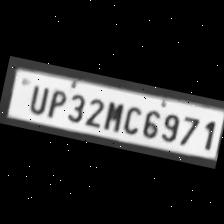1: (194, 116, 220, 153)
2: (82, 92, 106, 128)
3: (62, 88, 87, 124)
6: (137, 105, 161, 139)
7: (174, 112, 200, 148)
9: (156, 108, 182, 142)
C: (120, 101, 142, 135)
M: (101, 96, 125, 132)
P: (42, 84, 68, 119)
U: (24, 81, 50, 115)
